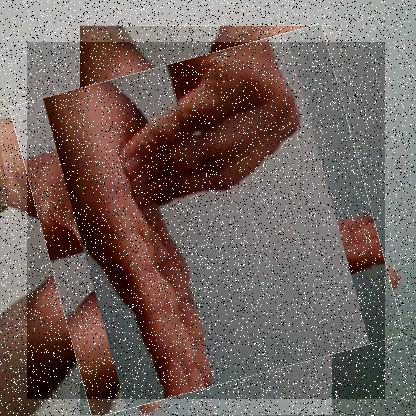Z: (27, 42, 386, 400)
